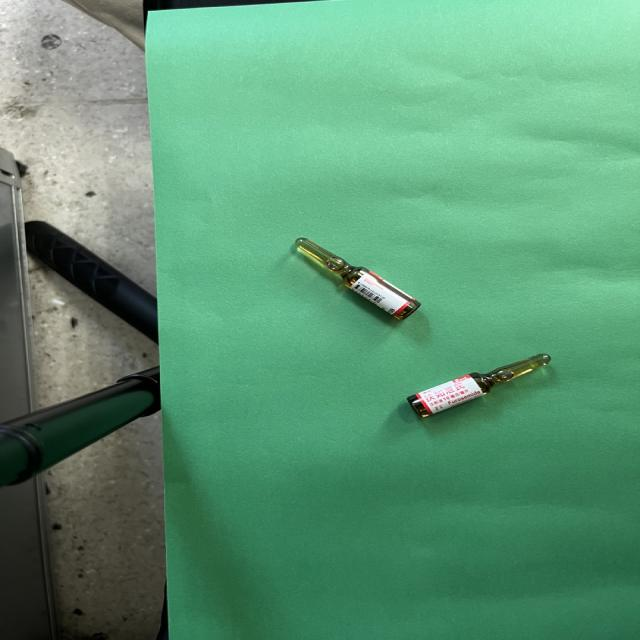Ampoules: (296, 238, 422, 321), (407, 354, 551, 418)
